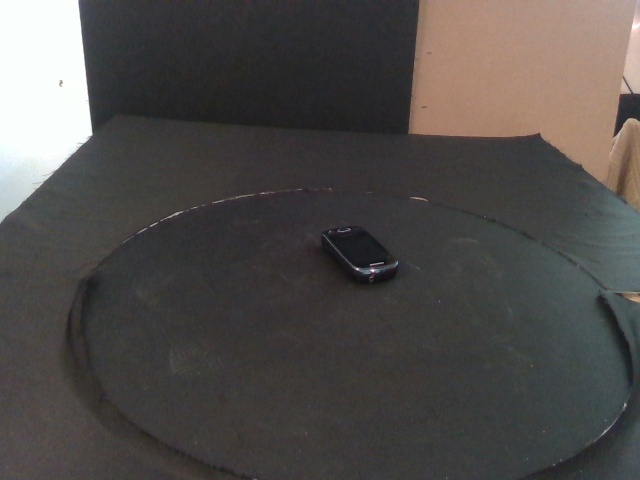phone: (322, 224, 399, 284)
